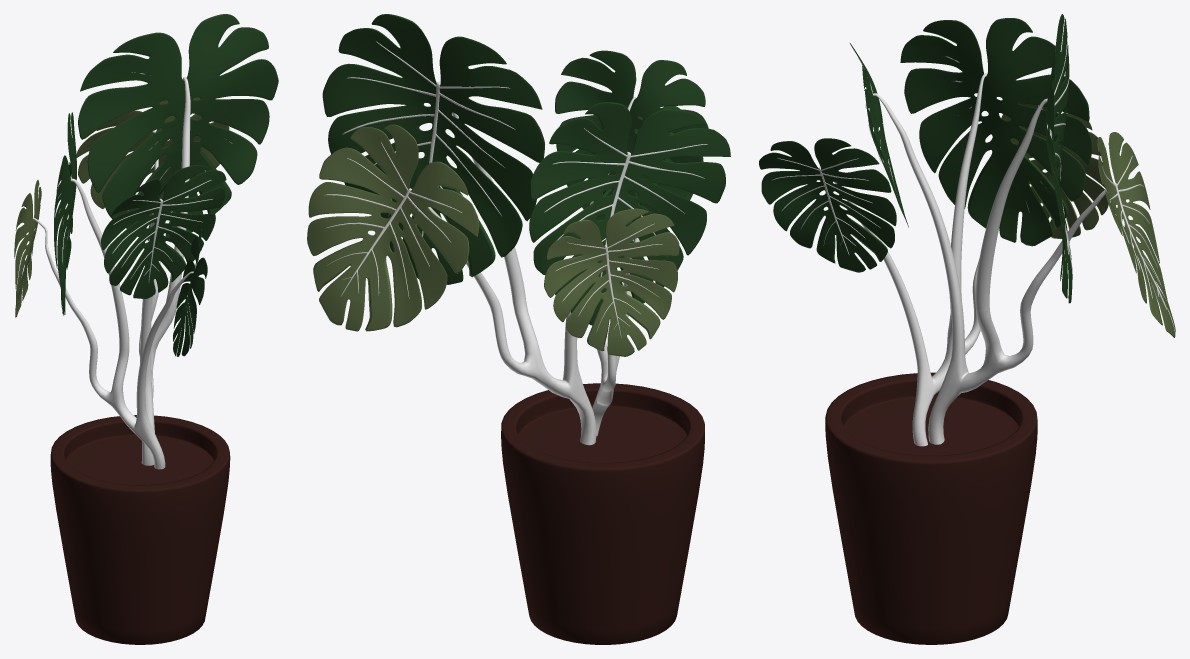
File: Plant_2.fbx
The picture shows the model from 3 angles, left to right: view 1: azimuth 30°, elevation 25°; view 2: azimuth 150°, elevation 25°; view 3: azimuth 270°, elevation 25°; orthographic projection. The views are drawn at different scales.
Parts seen in each view (by area): view 1: Plant_2; view 2: Plant_2; view 3: Plant_2.
Boxes of the visible parts, <box> form: Plant_2: <box>14,14,278,644</box>; Plant_2: <box>307,14,730,644</box>; Plant_2: <box>759,14,1175,644</box>.
Bounding box in the file's own units: 134 × 235 × 140.
